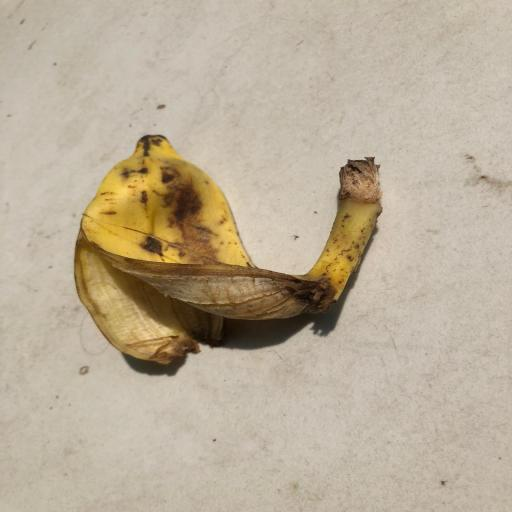waste: (61, 121, 414, 378)
